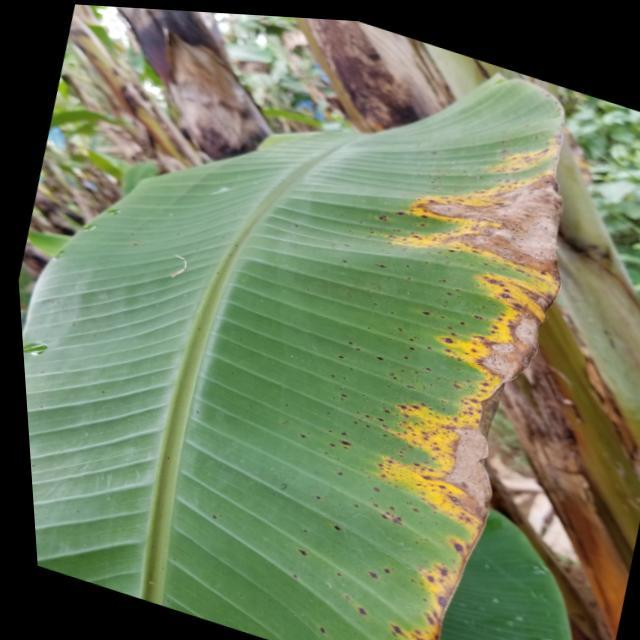Early_rust: (289, 84, 565, 640)
